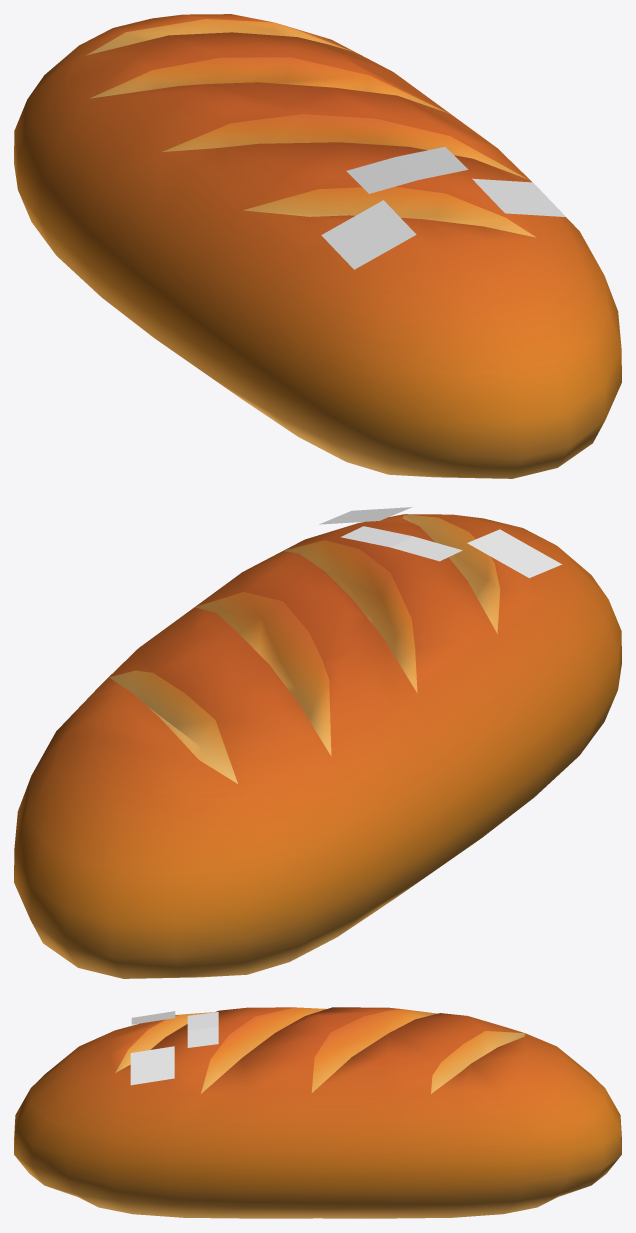
File: loaf_smile.fbx
The picture shows the model from 3 angles, top to bottom: view 1: azimuth 30°, elevation 25°; view 2: azimuth 150°, elevation 25°; view 3: azimuth 270°, elevation 25°; orthographic projection. The views are drawn at different scales.
Parts seen in each view (by area): view 1: loaf_smile; view 2: loaf_smile; view 3: loaf_smile.
Part boxes in pixels (<box>): loaf_smile: <box>14,14,621,478</box>; loaf_smile: <box>14,507,621,978</box>; loaf_smile: <box>14,1007,621,1218</box>.
Size of the model in its own units: 64.69 by 39.85 by 144.
Materials: 2 (1 with a texture image).
